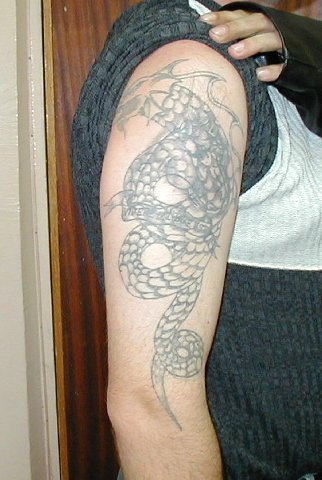tatu6_drakon: (101, 57, 242, 445)
